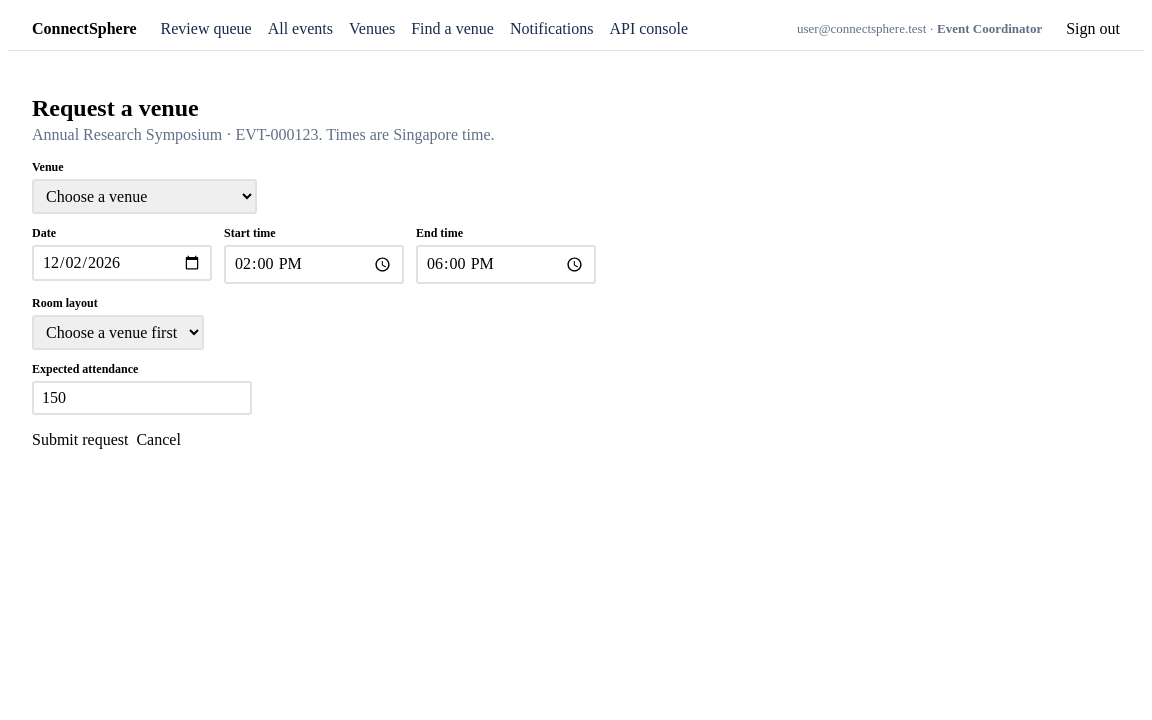
Test: the request form (L1) › offers the chosen venue's layouts, facilities and features, ticking the ones the event asks for (L1-T2)
Expected: the heading "Request a venue" is shown, 32,95 -> 199,121
Select "Lee Kong Chian Auditorium" in the dropdown labelled "Venue" at (144,196), box 32,179 -> 257,214
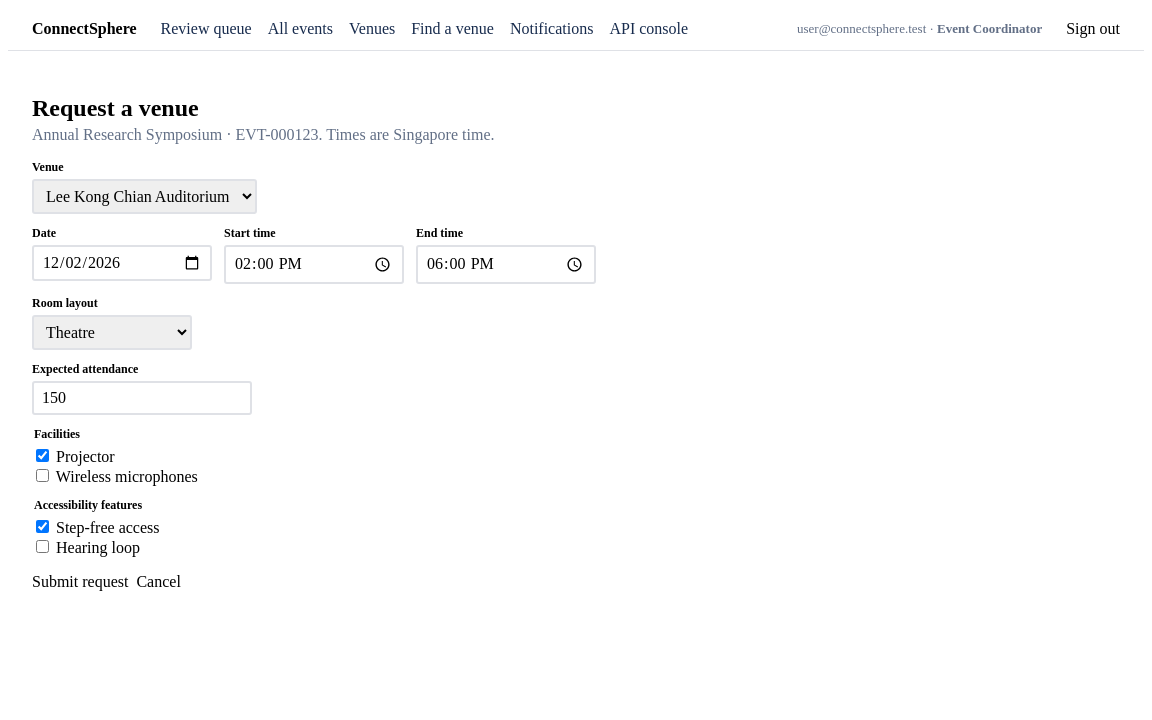
Now the dropdown labelled "Room layout" shows "Theatre", box 32,315 -> 192,350
Now the checkbox labelled "Projector" is checked, box 36,449 -> 49,462
Now the checkbox labelled "Wireless microphones" is not checked, box 36,469 -> 49,482
